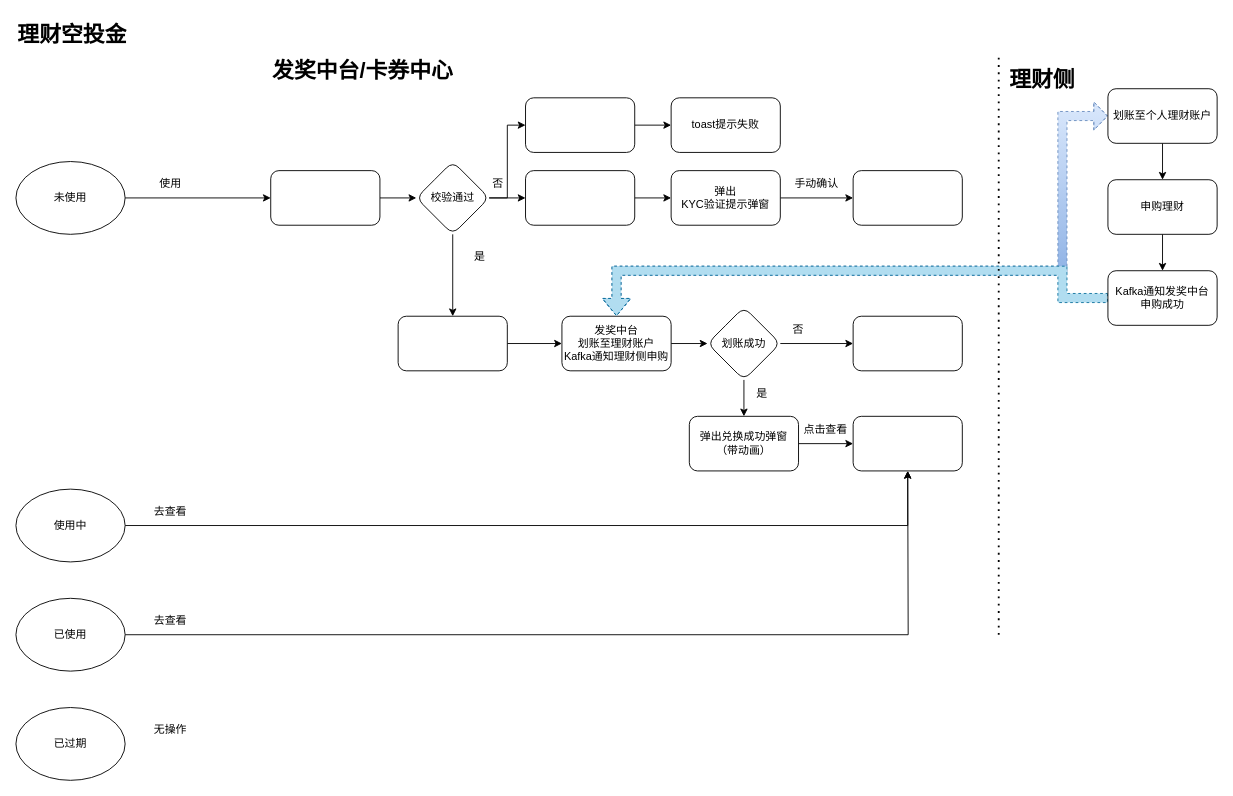
This 1233x796 diagram has some shape labels left out. Each missing label, with the centre of its shape:
"使用卡券 /reward/use" goes at pixel 452 343.
"其他错误" goes at pixel 580 124.
"提示 系统太忙了，请稍后重试" goes at pixel 907 343.
"跳转至 KYC验证页面" goes at pixel 907 197.
"跳转至 理财页面" goes at pixel 907 443.
"错误码：800017" goes at pixel 580 197.
"预校验 /reward/use/preValidate" goes at pixel 325 197.
